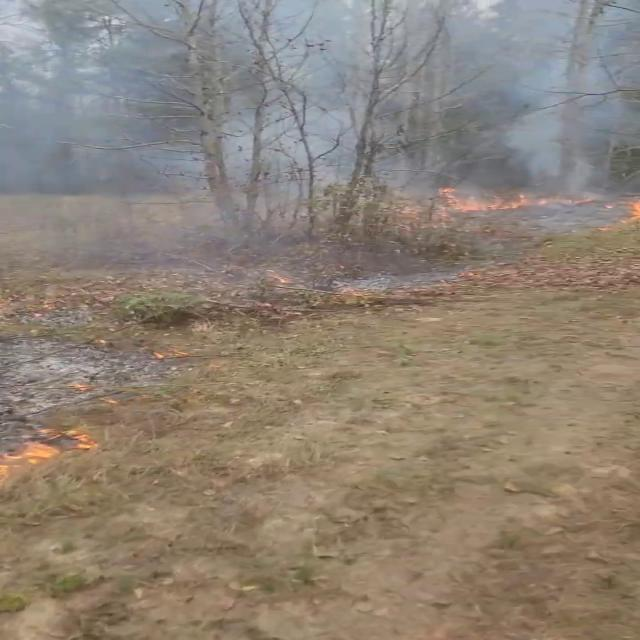Fire: (430, 182, 566, 215)
Smoke: (218, 4, 638, 224)
